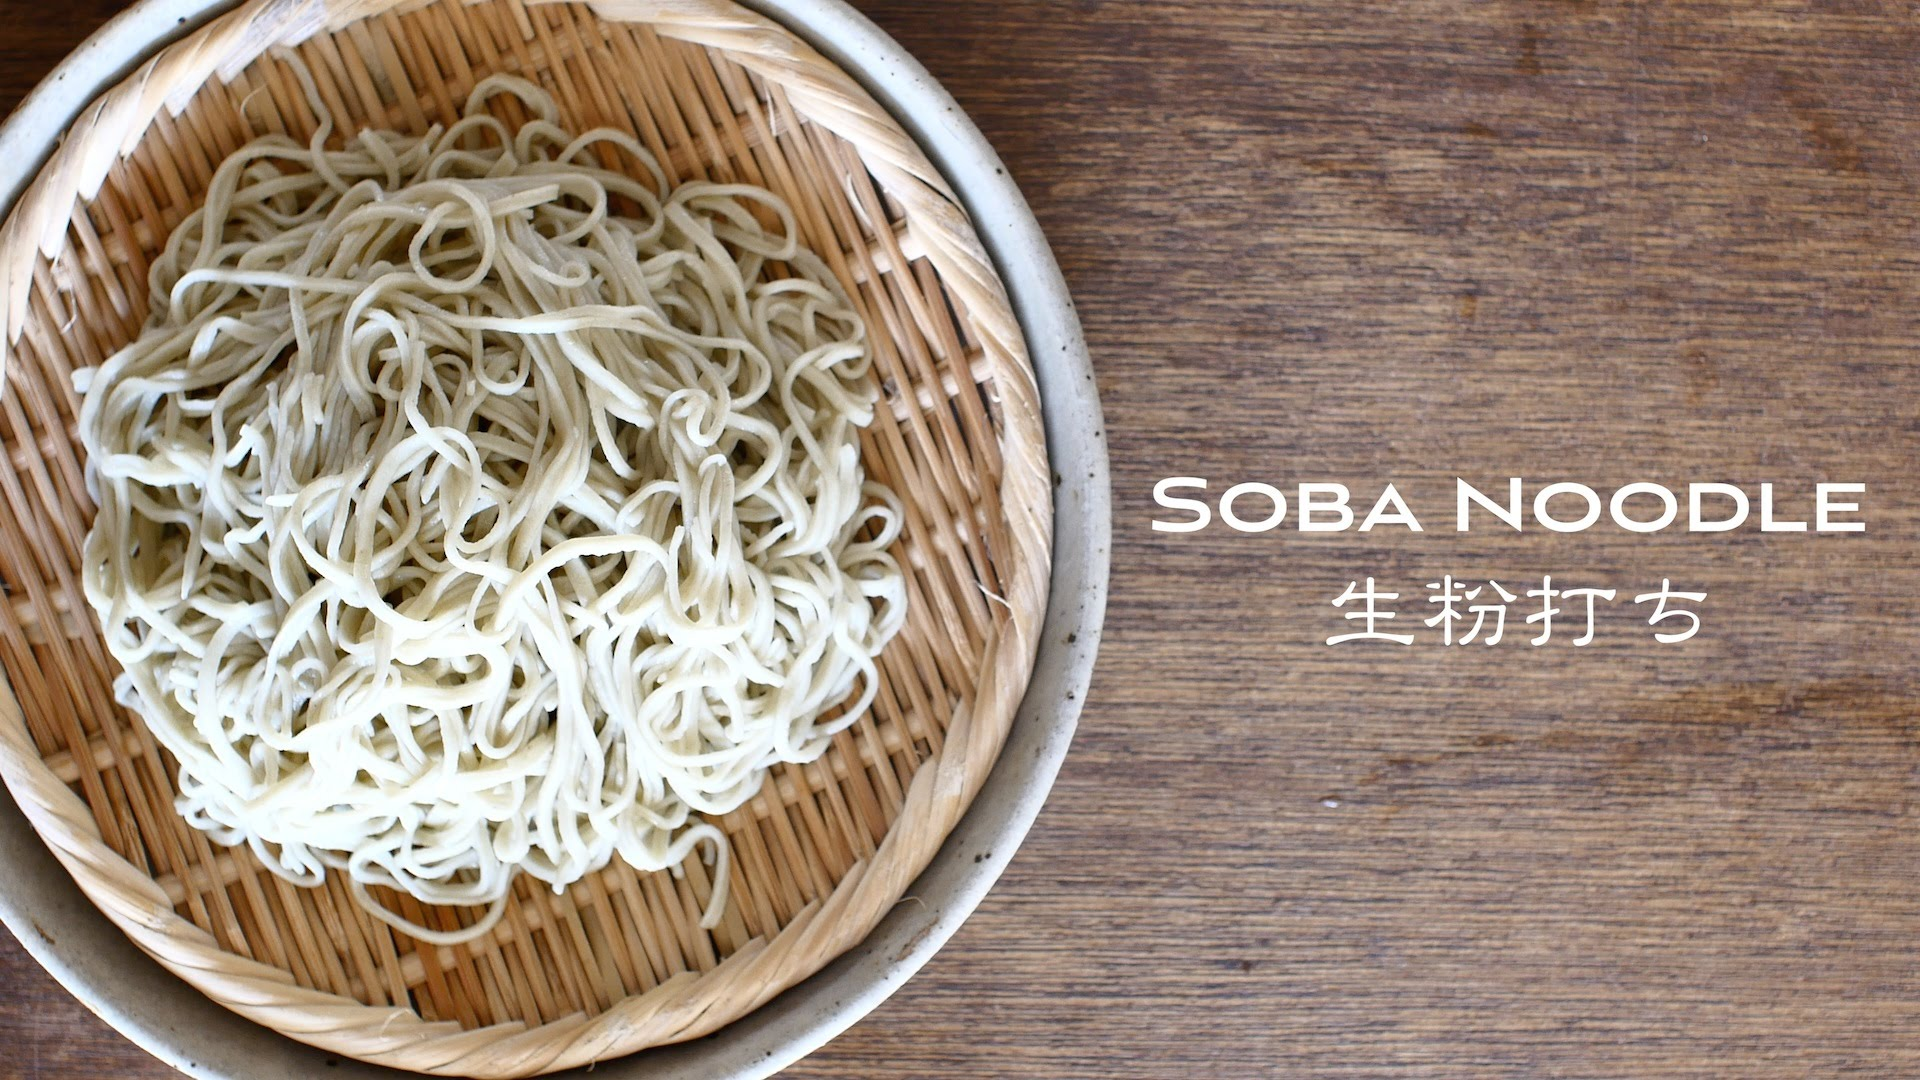Soba: (102, 86, 923, 953)
